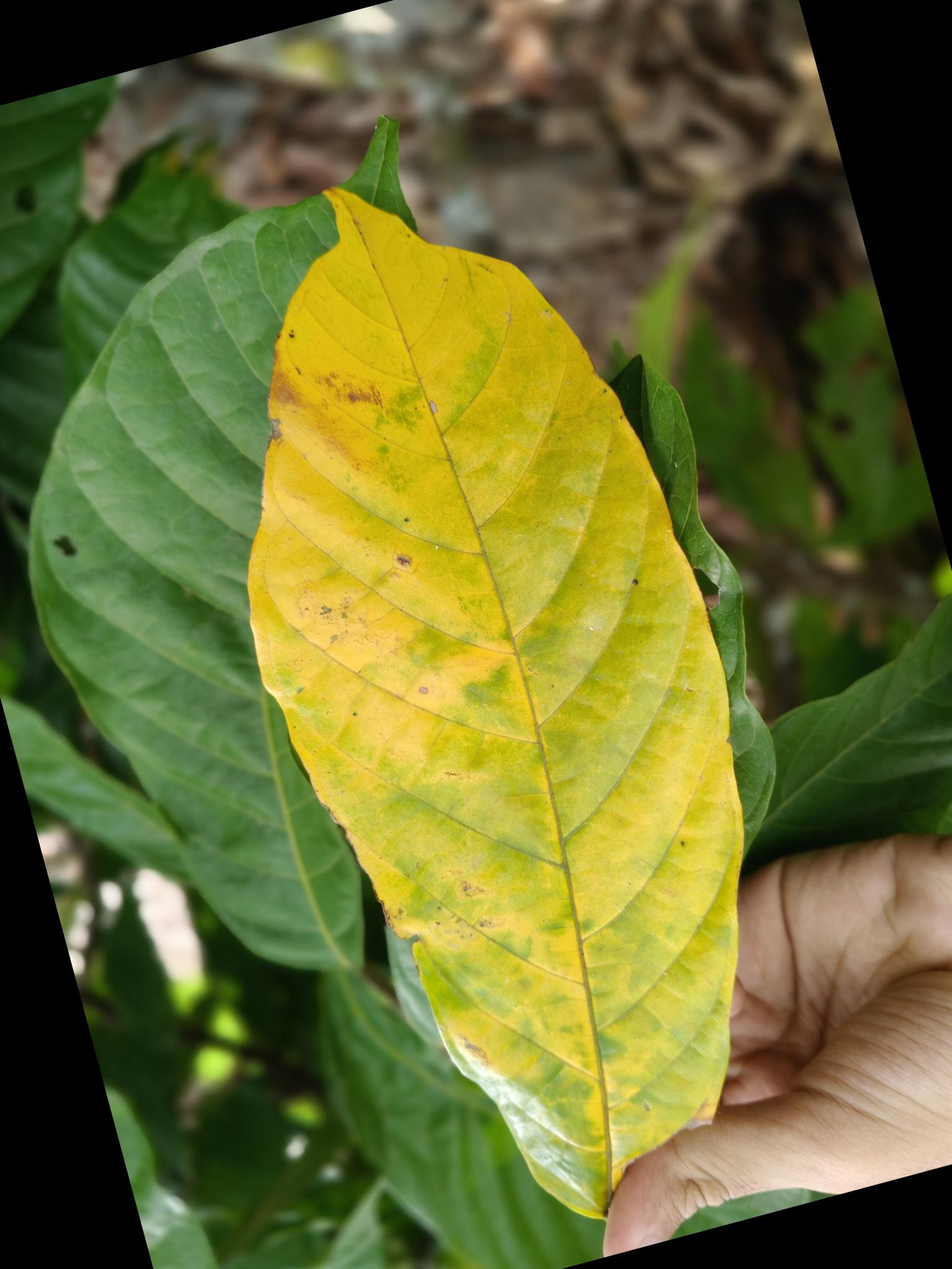Fosforo: (240, 176, 744, 1225)
